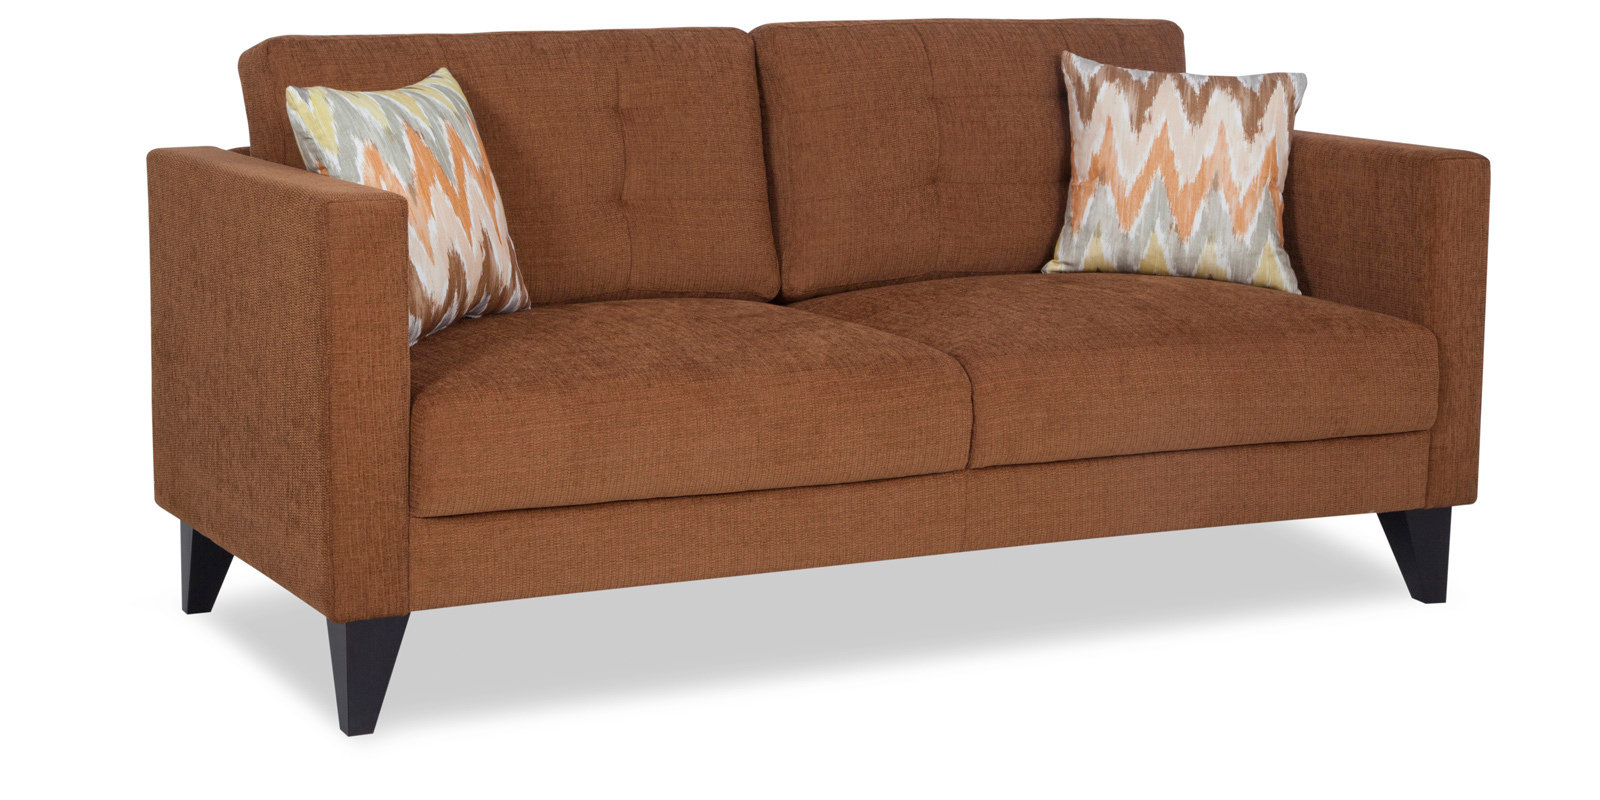Greenwich Three Seater Sofa in Caramel Brown Colour by Urban Living: (137, 11, 1527, 731)
